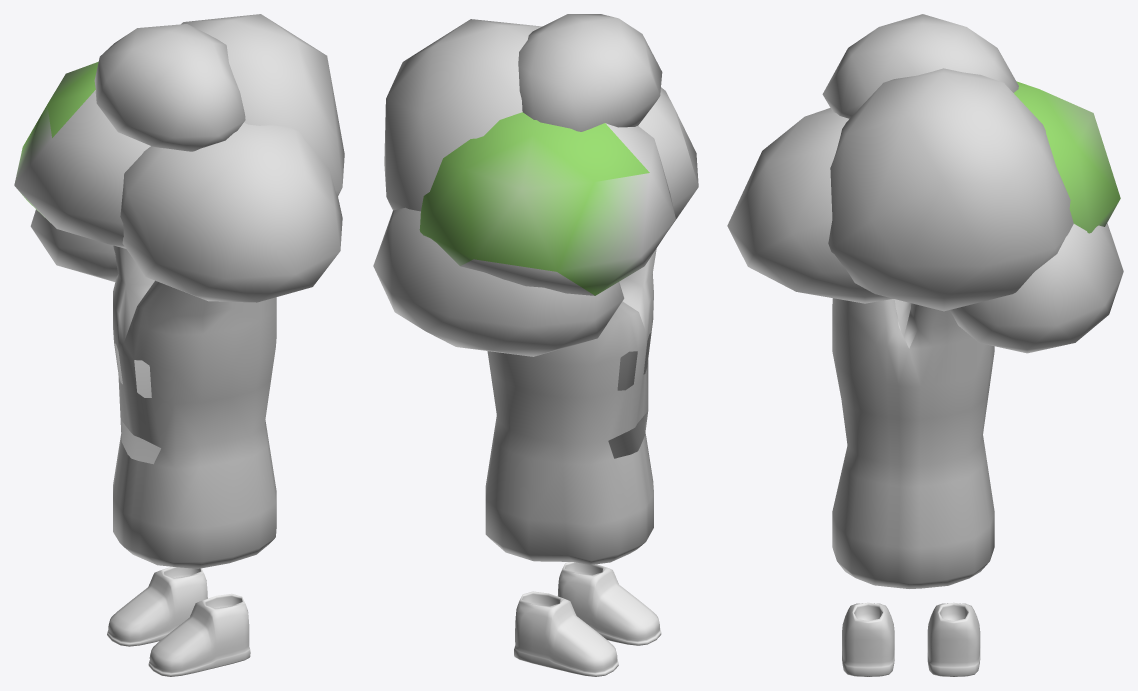
The model's file is paul.fbx.
The picture shows the model from 3 angles, left to right: view 1: azimuth 30°, elevation 25°; view 2: azimuth 150°, elevation 25°; view 3: azimuth 270°, elevation 25°; orthographic projection. The views are drawn at different scales.
Parts seen in each view (by area): view 1: paul, Icosphere.001, Icosphere.004, kopf, Icosphere.002, shoes, Icosphere.003; view 2: paul, kopf, Icosphere.003, Icosphere.002, Icosphere.004, shoes, Icosphere.001; view 3: Icosphere.002, paul, Icosphere.001, Icosphere.003, Icosphere.004, shoes, kopf.
Part boxes in pixels (bbox=[...]): paul: bbox=[113, 245, 276, 568]; Icosphere.001: bbox=[120, 122, 342, 302]; Icosphere.004: bbox=[94, 24, 245, 151]; kopf: bbox=[14, 62, 150, 248]; Icosphere.002: bbox=[181, 14, 344, 195]; shoes: bbox=[107, 566, 250, 676]; Icosphere.003: bbox=[30, 209, 117, 281]; paul: bbox=[485, 248, 656, 564]; kopf: bbox=[419, 112, 675, 295]; Icosphere.003: bbox=[373, 207, 624, 356]; Icosphere.002: bbox=[384, 19, 542, 211]; Icosphere.004: bbox=[518, 14, 662, 131]; shoes: bbox=[514, 562, 661, 676]; Icosphere.001: bbox=[638, 87, 698, 229]; Icosphere.002: bbox=[828, 68, 1073, 311]; paul: bbox=[832, 298, 994, 588]; Icosphere.001: bbox=[727, 108, 893, 303]; Icosphere.003: bbox=[950, 223, 1123, 353]; Icosphere.004: bbox=[822, 14, 1018, 118]; shoes: bbox=[842, 602, 980, 676]; kopf: bbox=[1014, 81, 1120, 233].
Size of the model in its own units: 3.86 by 8.25 by 4.71.
